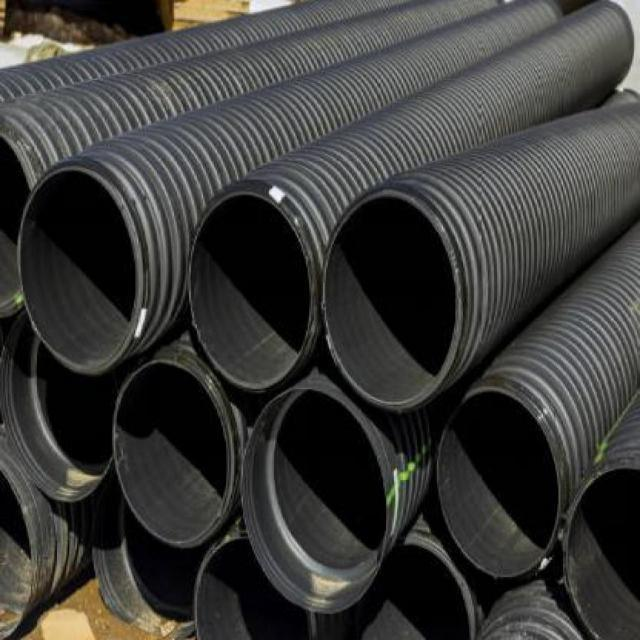pipe: (241, 386, 392, 613), (322, 192, 458, 406), (1, 309, 141, 503), (17, 164, 142, 372), (187, 191, 312, 391), (435, 388, 562, 579), (113, 359, 236, 547), (90, 476, 199, 638), (352, 536, 481, 640), (192, 535, 319, 639), (564, 464, 639, 640), (0, 464, 41, 640)
